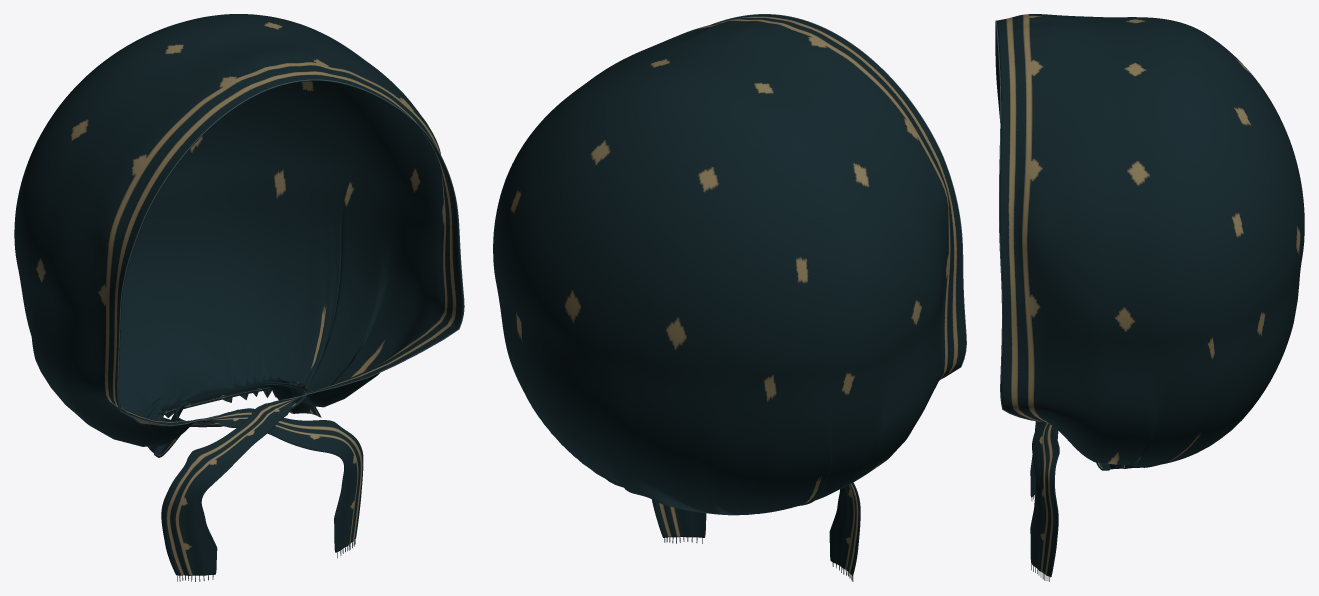
Rendered from Masculine-sidepart-tshirt-pashmina250-headgear.glb.
The picture shows the model from 3 angles, left to right: view 1: azimuth 30°, elevation 25°; view 2: azimuth 150°, elevation 25°; view 3: azimuth 270°, elevation 25°; orthographic projection. The views are drawn at different scales.
Parts seen in each view (by area): view 1: 226 headgear / Headwear / continuous woven pashmina239, 226 headgear / Headwear / face edge239; view 2: 226 headgear / Headwear / continuous woven pashmina239, 226 headgear / Headwear / face edge239; view 3: 226 headgear / Headwear / continuous woven pashmina239, 226 headgear / Headwear / face edge239.
Part boxes in pixels (x1=…): 226 headgear / Headwear / continuous woven pashmina239: x1=14, y1=14, x2=463, y2=575; 226 headgear / Headwear / face edge239: x1=117, y1=79, x2=464, y2=426; 226 headgear / Headwear / continuous woven pashmina239: x1=493, y1=14, x2=965, y2=575; 226 headgear / Headwear / face edge239: x1=709, y1=14, x2=966, y2=379; 226 headgear / Headwear / continuous woven pashmina239: x1=995, y1=14, x2=1304, y2=577; 226 headgear / Headwear / face edge239: x1=995, y1=20, x2=1036, y2=421.
Size of the model in its own units: 1.07 by 1.39 by 0.7681.
Materials: 3 (1 with a texture image).
